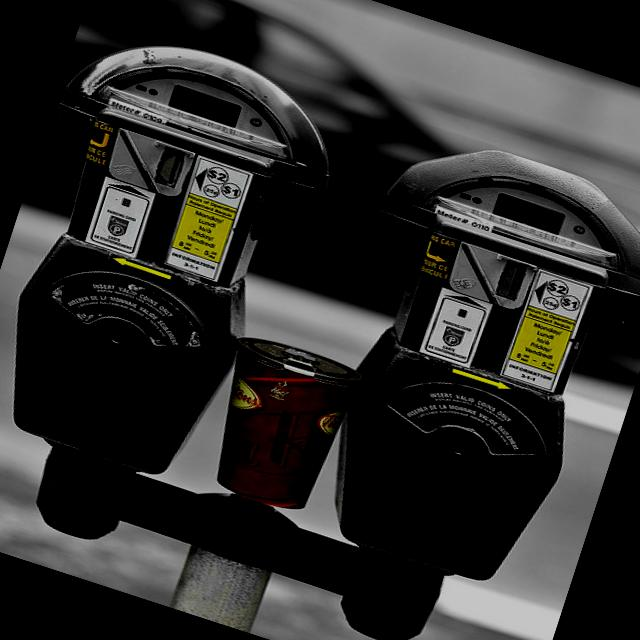Vehicle: (23, 0, 640, 395)
